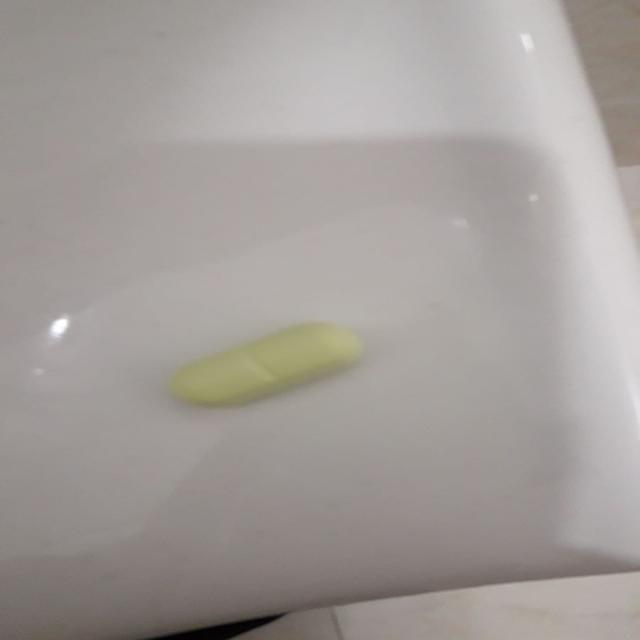pills: (154, 310, 382, 417)
